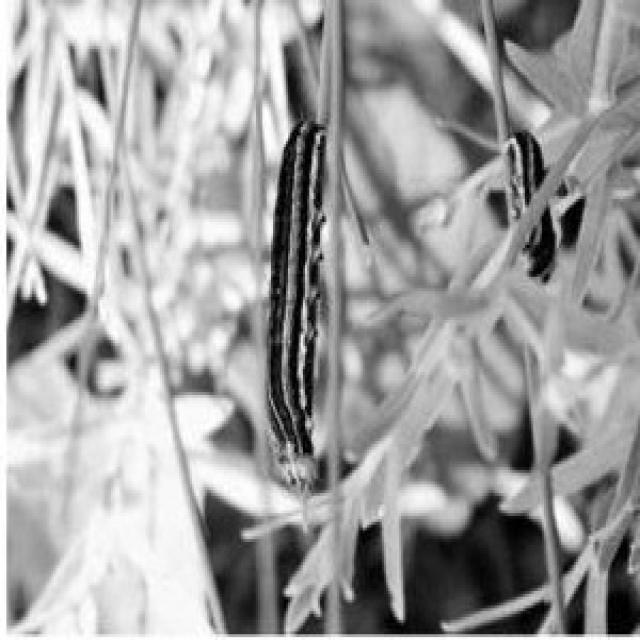army worm: (264, 112, 335, 495), (505, 137, 564, 292)
